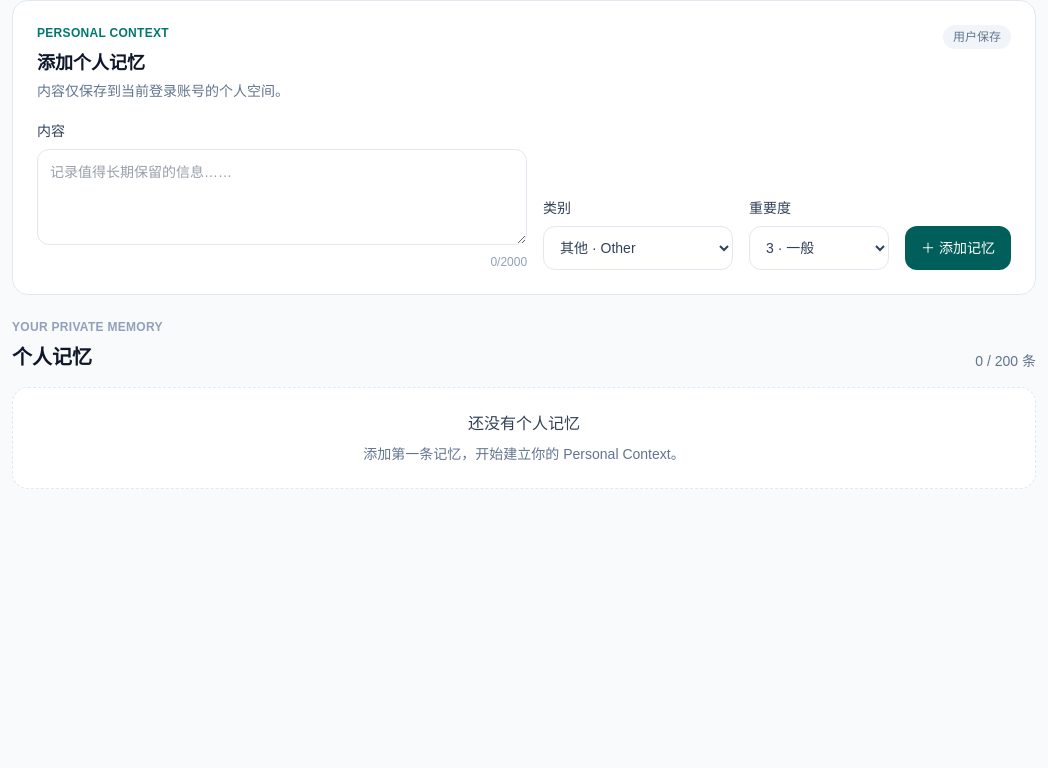
Memory management workspace › shows the API limit error if the server reaches capacity after the list loads
Expected: the text "0 / 200 条" is shown, left=975, top=351, right=1036, bottom=371
Type "新记忆" into the text box labelled "内容" at [282, 197], box left=37, top=149, right=527, bottom=245
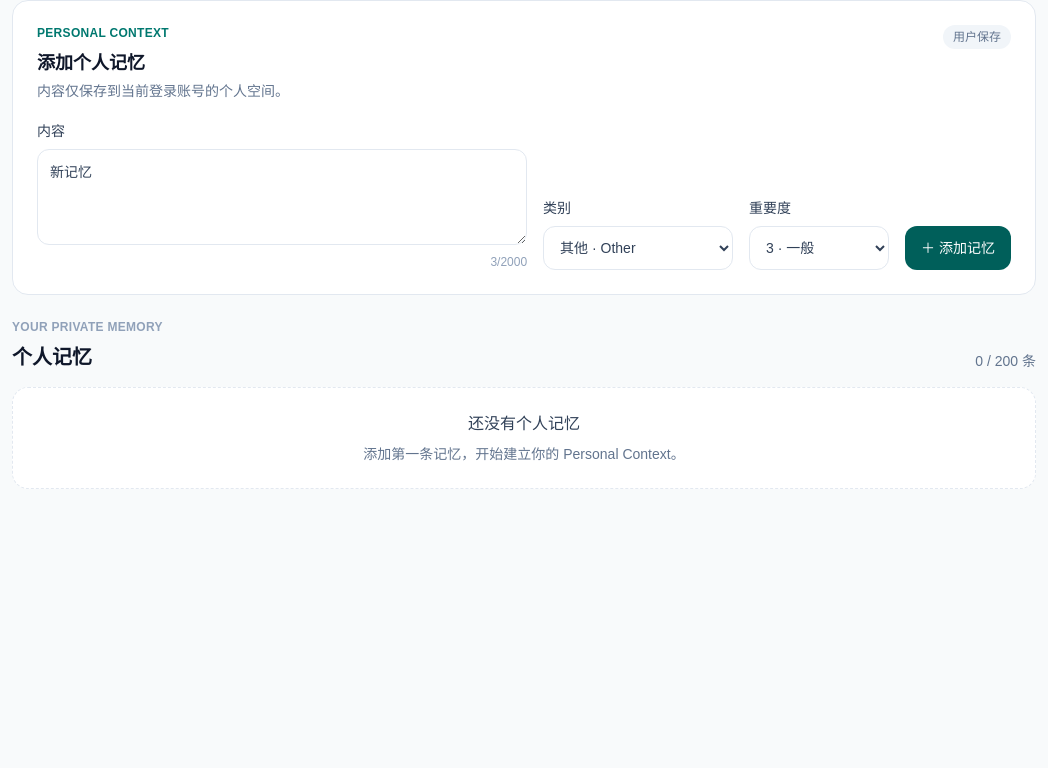
Click the button "＋ 添加记忆" at [958, 248], box left=905, top=226, right=1011, bottom=270
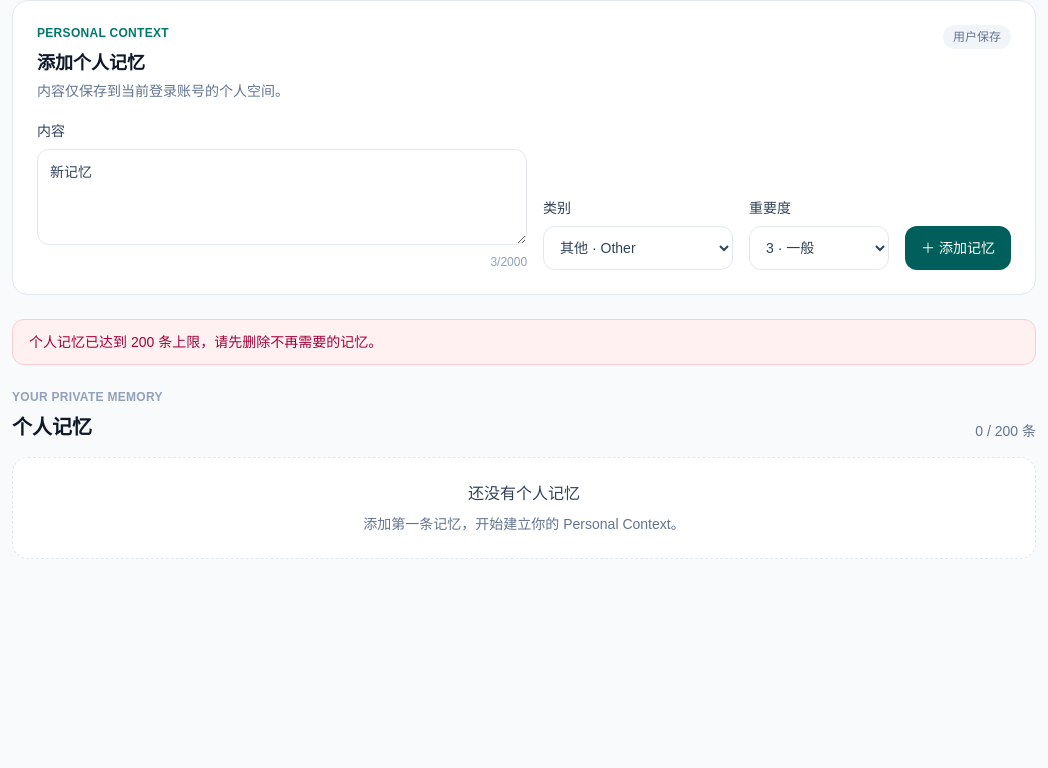
Expected: the text "0 / 200 条" is shown, left=975, top=421, right=1036, bottom=441
Now the message reads "个人记忆已达到 200 条上限，请先删除不再需要的记忆。", box left=29, top=334, right=382, bottom=350
